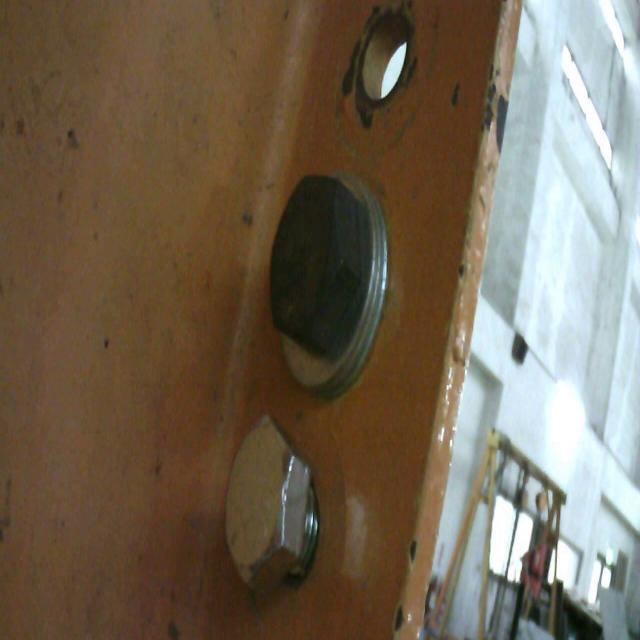Loose bolt: (226, 414, 323, 596)
Missing bolt: (356, 11, 414, 104)
Regular bolt: (271, 169, 392, 391)
